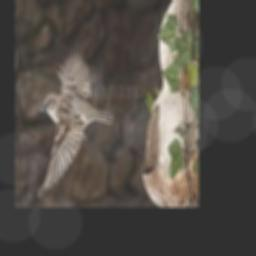Sparrow: (36, 51, 114, 198)
